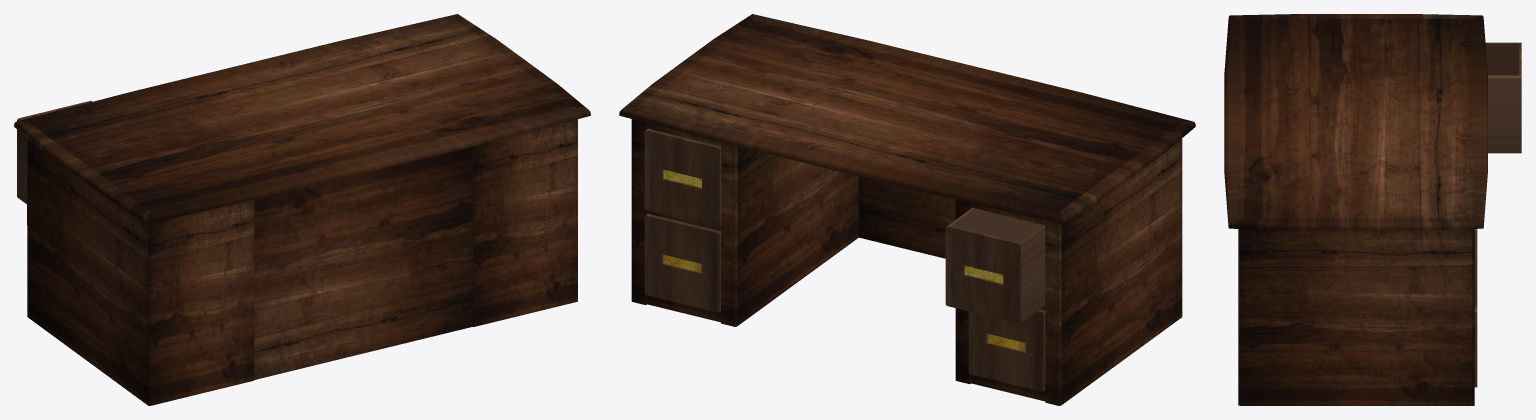
File: workdesk1.FBX
3 views of the same model, side by side, from view 1: azimuth 30°, elevation 25°; view 2: azimuth 150°, elevation 25°; view 3: azimuth 270°, elevation 25° (orthographic). The views are drawn at different scales.
Parts seen in each view (by area): view 1: Plane001, Box001, Plane002, Box002, laatikko; view 2: Plane001, Box001, Box002, laatikko, laatikko001, Plane002; view 3: Plane001, Box002, laatikko, laatikko001.
Part boxes in pixels (x1,y1,x2,y2): Plane001: [14, 14, 590, 223]; Box001: [27, 138, 254, 405]; Plane002: [254, 146, 472, 379]; Box002: [473, 119, 577, 326]; laatikko: [17, 100, 92, 204]; Plane001: [619, 14, 1195, 223]; Box001: [955, 138, 1182, 405]; Box002: [631, 119, 858, 326]; laatikko: [945, 207, 1045, 391]; laatikko001: [644, 128, 721, 312]; Plane002: [858, 176, 955, 258]; Plane001: [1224, 14, 1487, 230]; Box002: [1238, 229, 1474, 405]; laatikko: [1485, 42, 1521, 153]; laatikko001: [1474, 229, 1477, 387].
Bounding box in the file's own units: 84.32 × 34.59 × 49.95.
3 materials, 3 textured.
